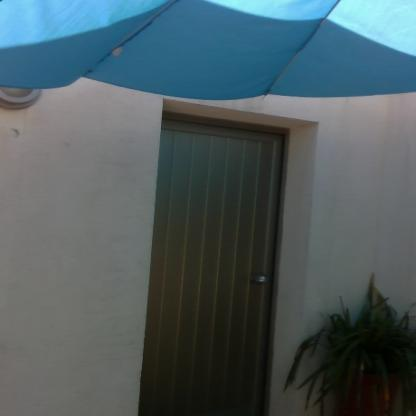door: (161, 122, 272, 416)
knob: (256, 273, 270, 287)
